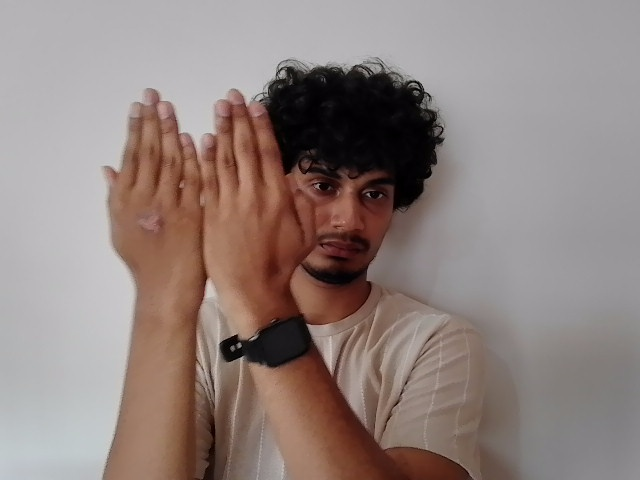school: (102, 84, 315, 283)
